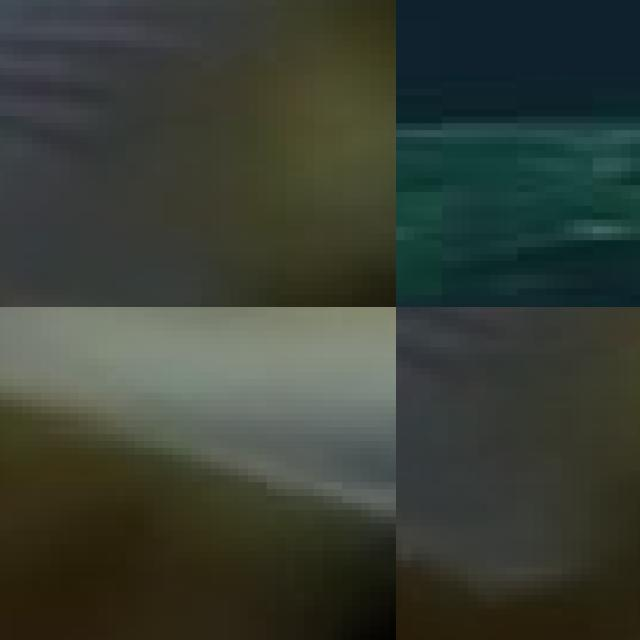fish: (0, 0, 396, 307), (396, 307, 640, 622)
